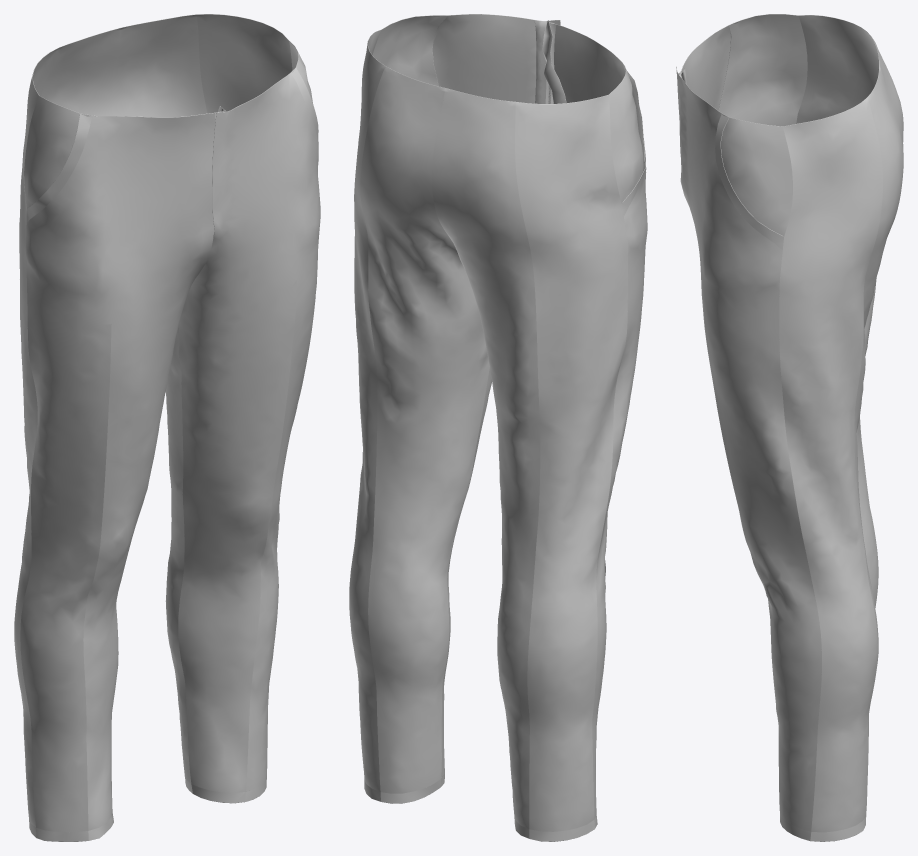
The model's file is slim.glb.
3 views of the same model, side by side, from view 1: azimuth 30°, elevation 25°; view 2: azimuth 150°, elevation 25°; view 3: azimuth 270°, elevation 25° (orthographic). The views are drawn at different scales.
Parts seen in each view (by area): view 1: Slim-Fit_Node (×8); view 2: Slim-Fit_Node (×10); view 3: Slim-Fit_Node (×8).
Part boxes in pixels (x1,y1,x2,y2): Slim-Fit_Node (×8): (14,14,320,841); Slim-Fit_Node (×10): (349,14,647,841); Slim-Fit_Node (×8): (676,14,903,841).
Size of the model in its own units: 36.84 by 96.05 by 27.23.
Materials: 10 (4 with a texture image).
